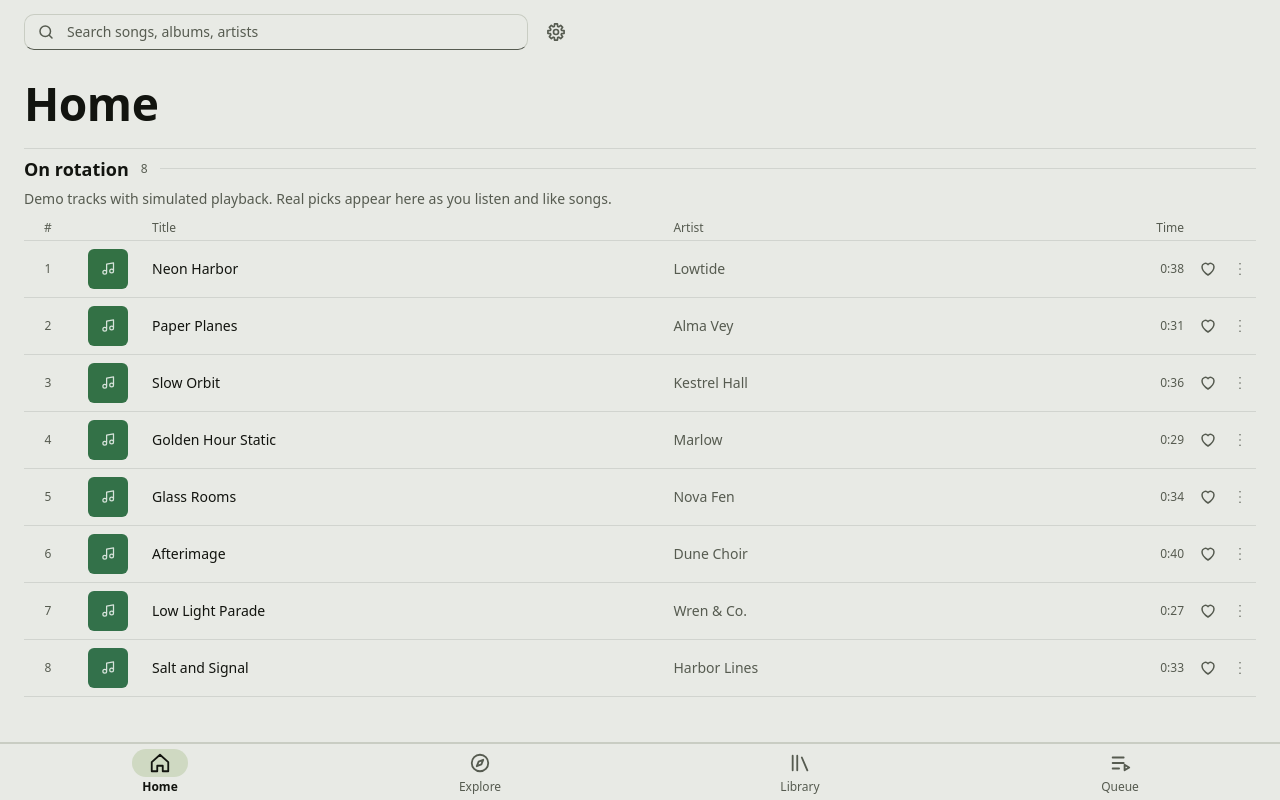
it: playlists › Add to playlist -> New playlist asks for a name, creates it with the song, and confirms
Click the button named "More options for Neon Harbor" at (1240, 269), box top-left (1224, 253), bottom-right (1256, 285)
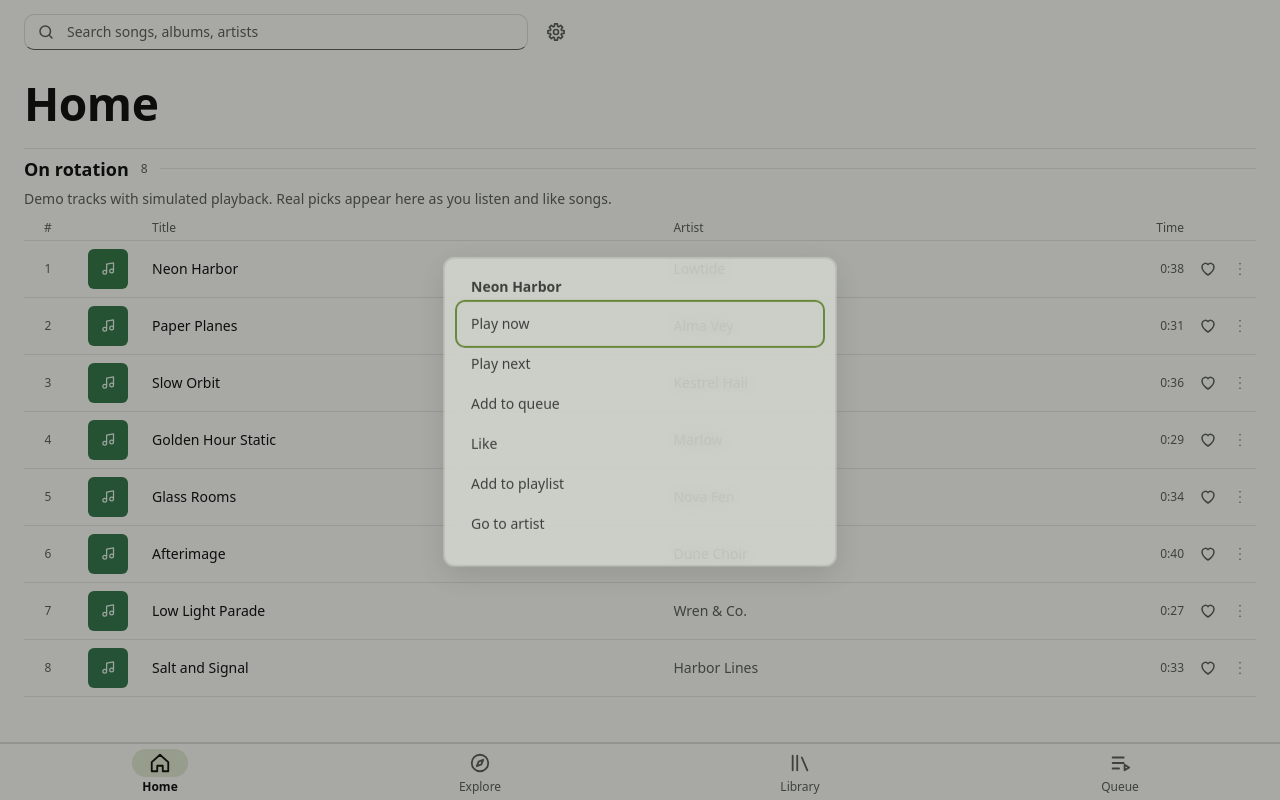
Click the button "Add to playlist" at (518, 474), box top-left (459, 455), bottom-right (821, 495)
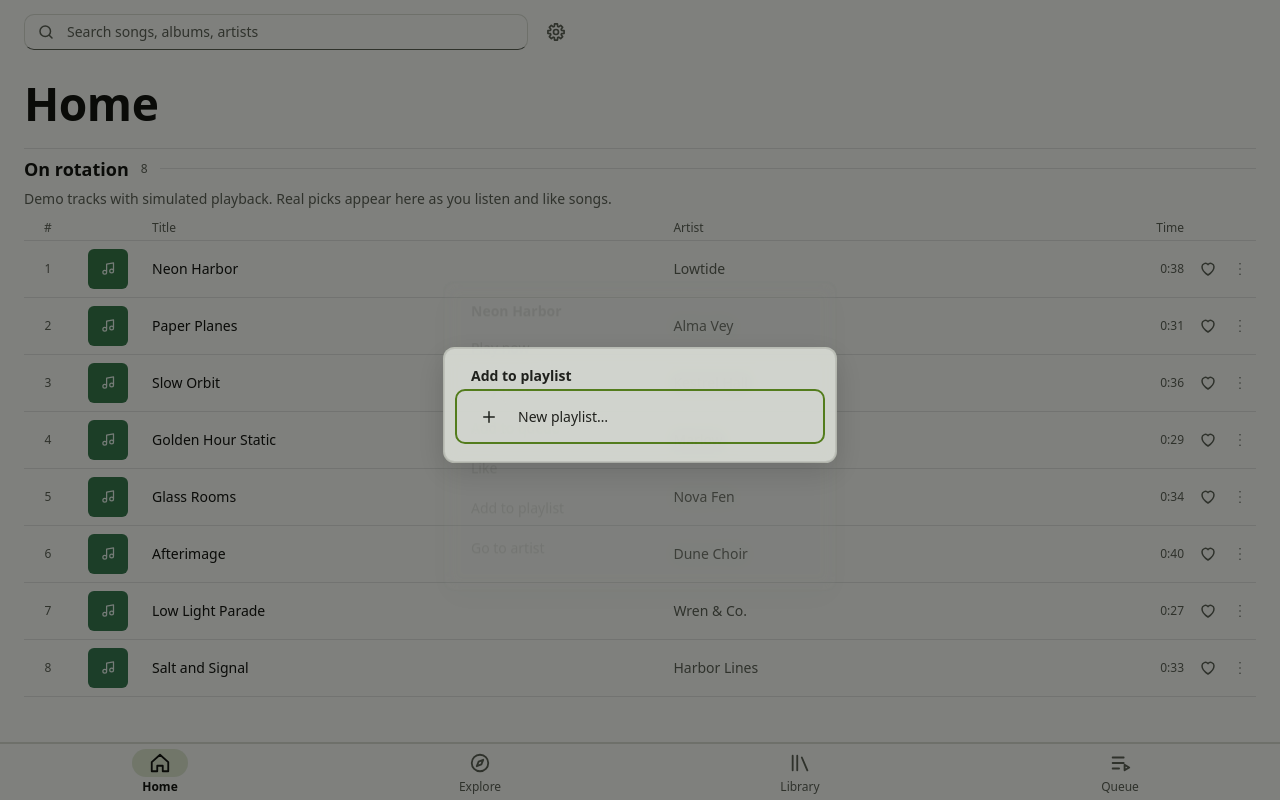
Click the button "New playlist…" at (488, 412), box top-left (459, 389), bottom-right (821, 436)
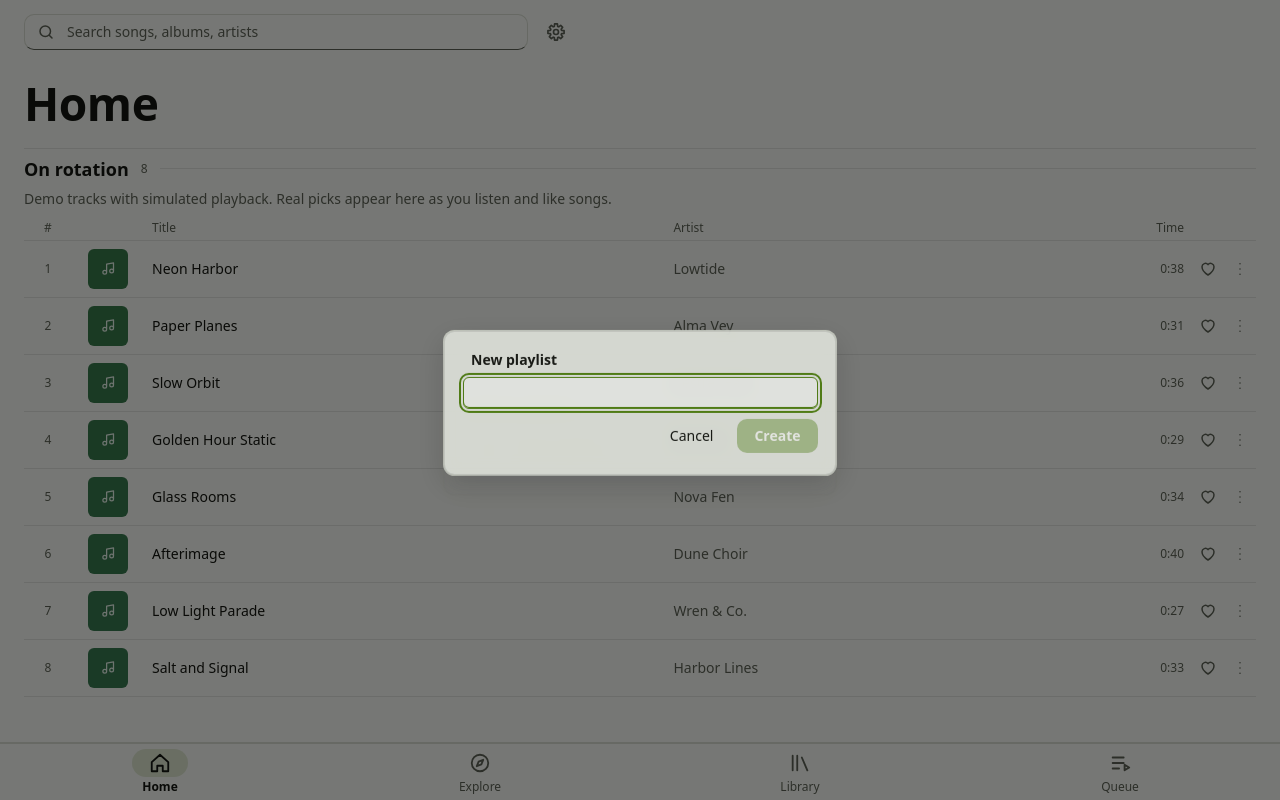
Now the button "Create" is disabled, box top-left (737, 417), bottom-right (818, 451)
Type "  Road trip " into the field named "Name" at (640, 390), box top-left (462, 374), bottom-right (818, 406)
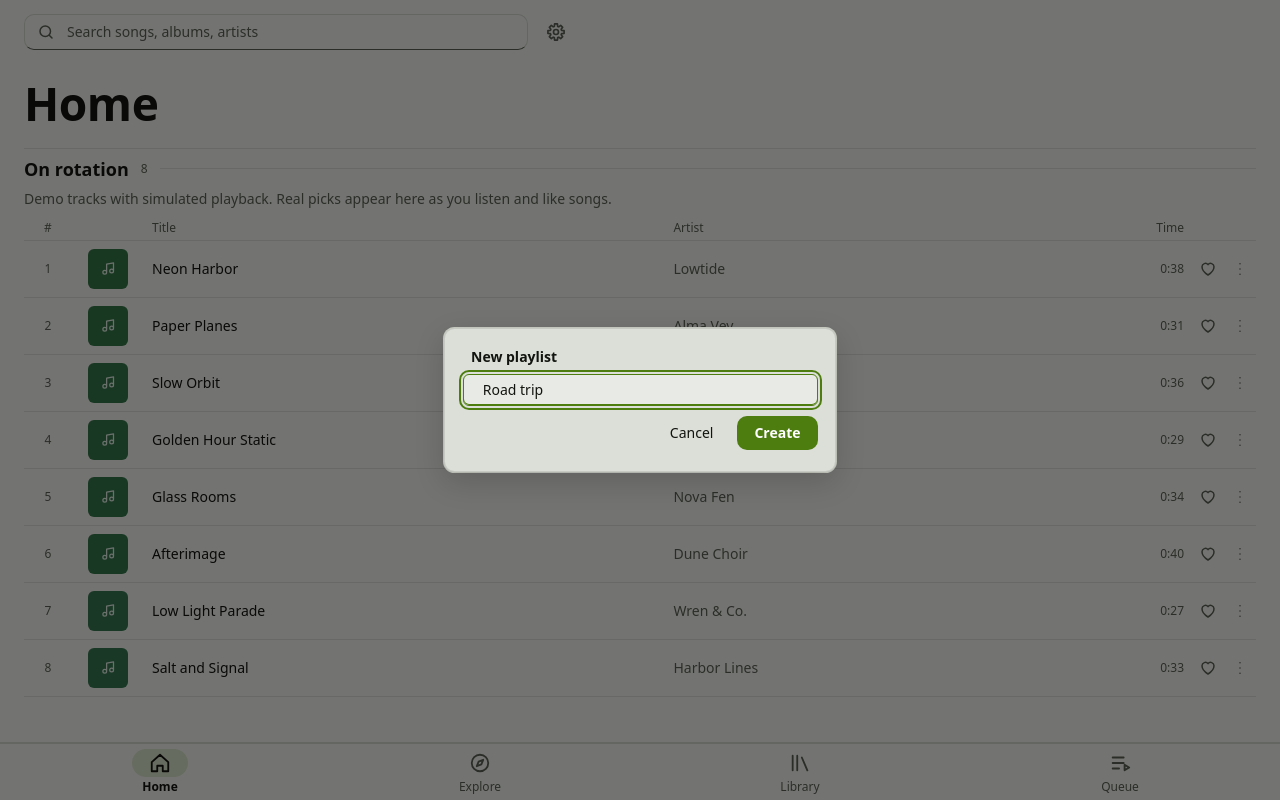
Click the button "Create" at (777, 433), box top-left (737, 416), bottom-right (818, 450)
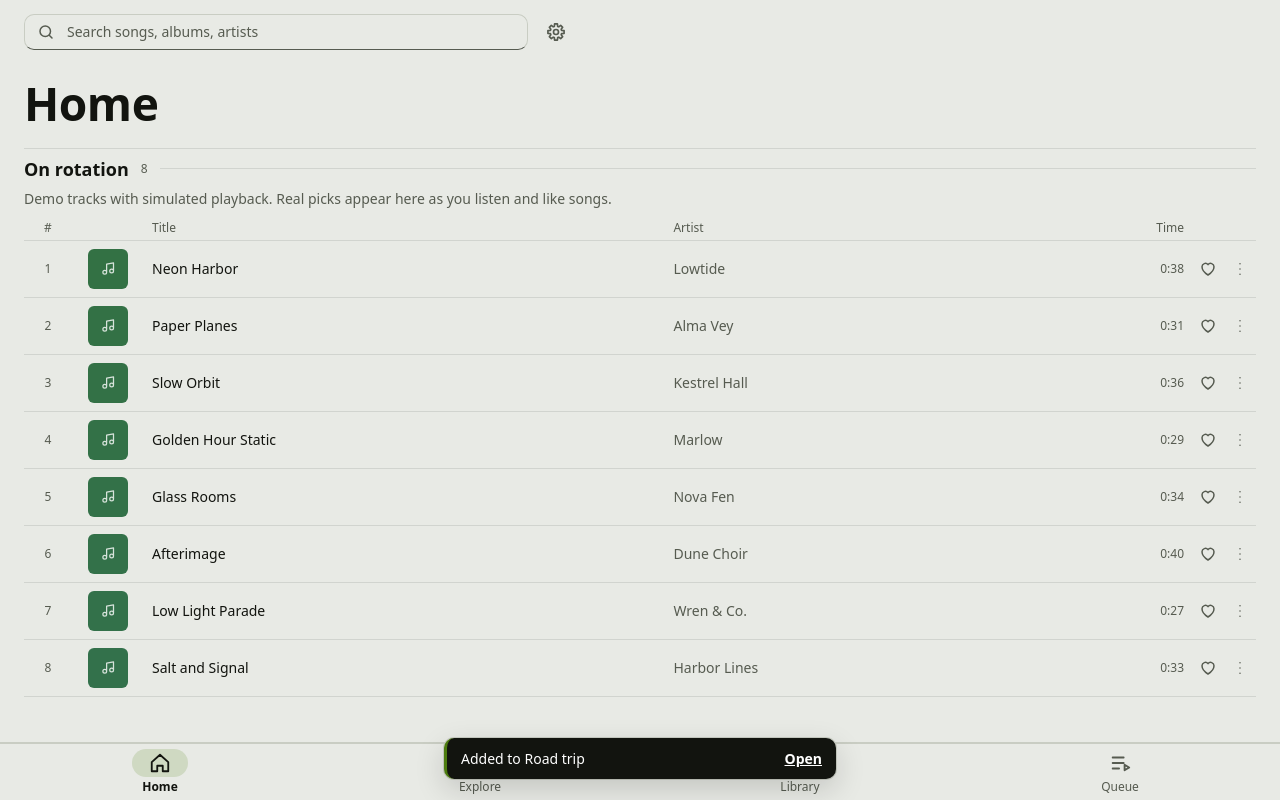
Now the text "Added to Road trip" is shown, box top-left (461, 748), bottom-right (585, 768)
Now the button "New playlist" is gone
